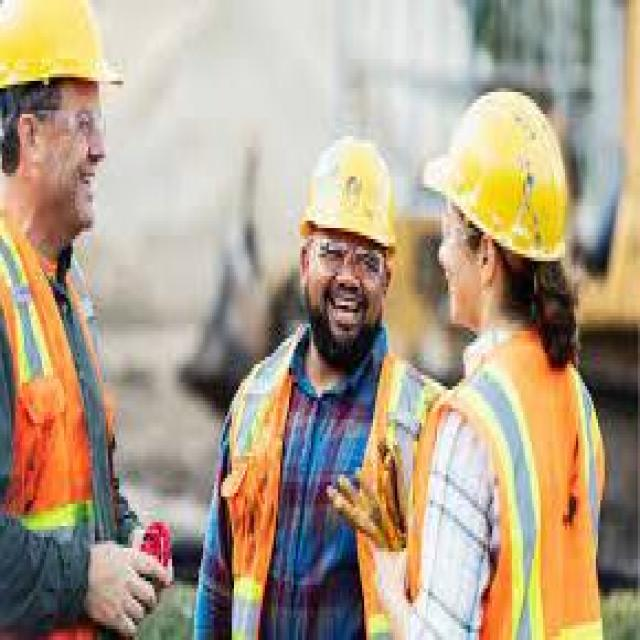Reflective-Jacket: (212, 342, 426, 640), (426, 331, 611, 640), (0, 202, 126, 640)
Safety-Helmet: (422, 77, 589, 280), (289, 122, 408, 268), (0, 0, 128, 132)
